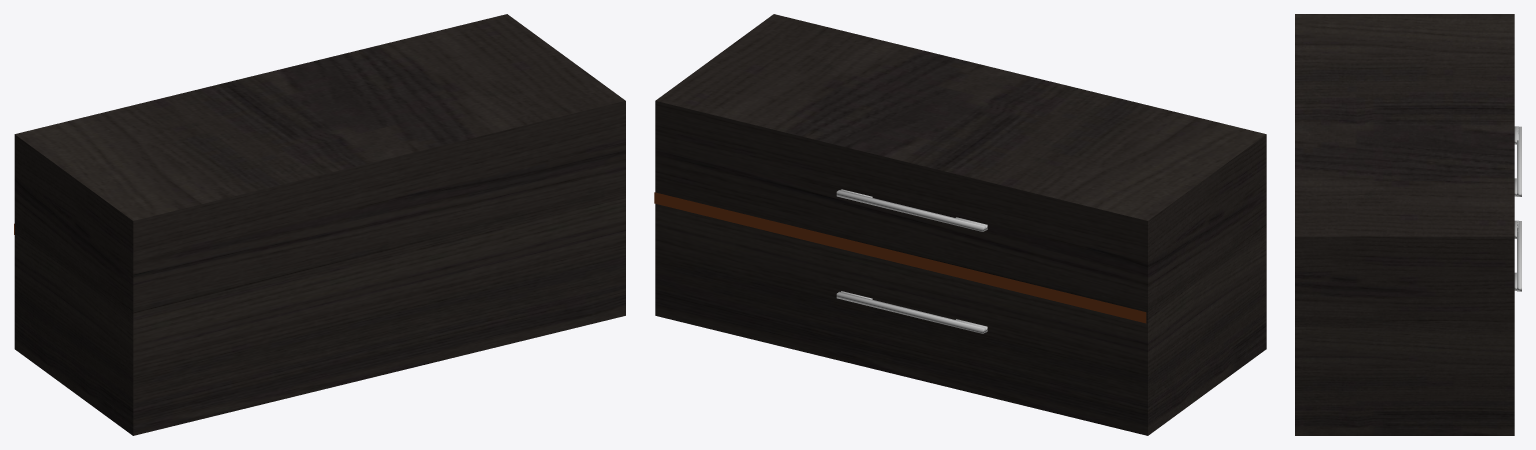
The model's file is bureau.fbx.
3 views of the same model, side by side, from view 1: azimuth 30°, elevation 25°; view 2: azimuth 150°, elevation 25°; view 3: azimuth 270°, elevation 25° (orthographic). The views are drawn at different scales.
Parts seen in each view (by area): view 1: Cube.012; view 2: Cube.012; view 3: Cube.012.
Boxes of the visible parts, left/top/right/bottom form: Cube.012: left=14, top=14, right=625, bottom=435; Cube.012: left=654, top=14, right=1266, bottom=435; Cube.012: left=1295, top=14, right=1521, bottom=435.
Bounding box in the file's own units: 134 × 55.89 × 57.7.
